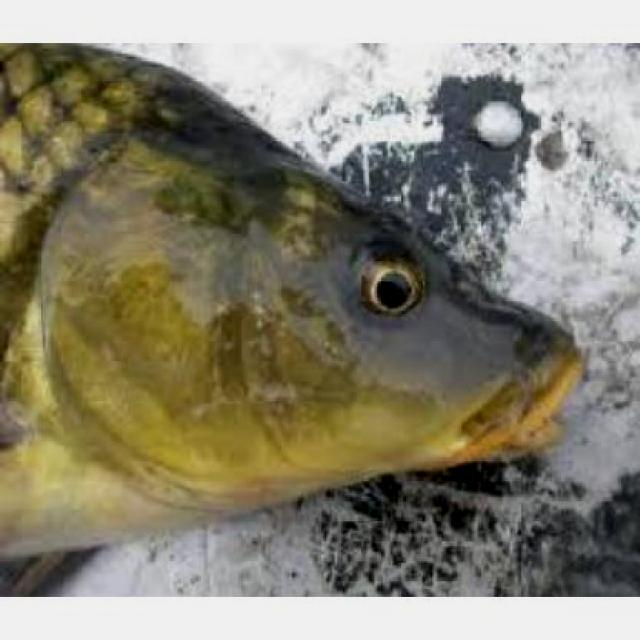ikan-mas: (0, 46, 588, 557)
